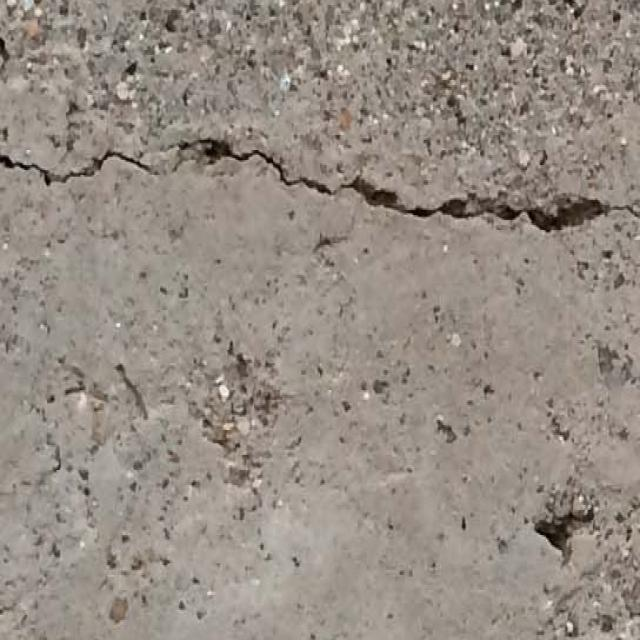crack: (1, 136, 638, 234)
